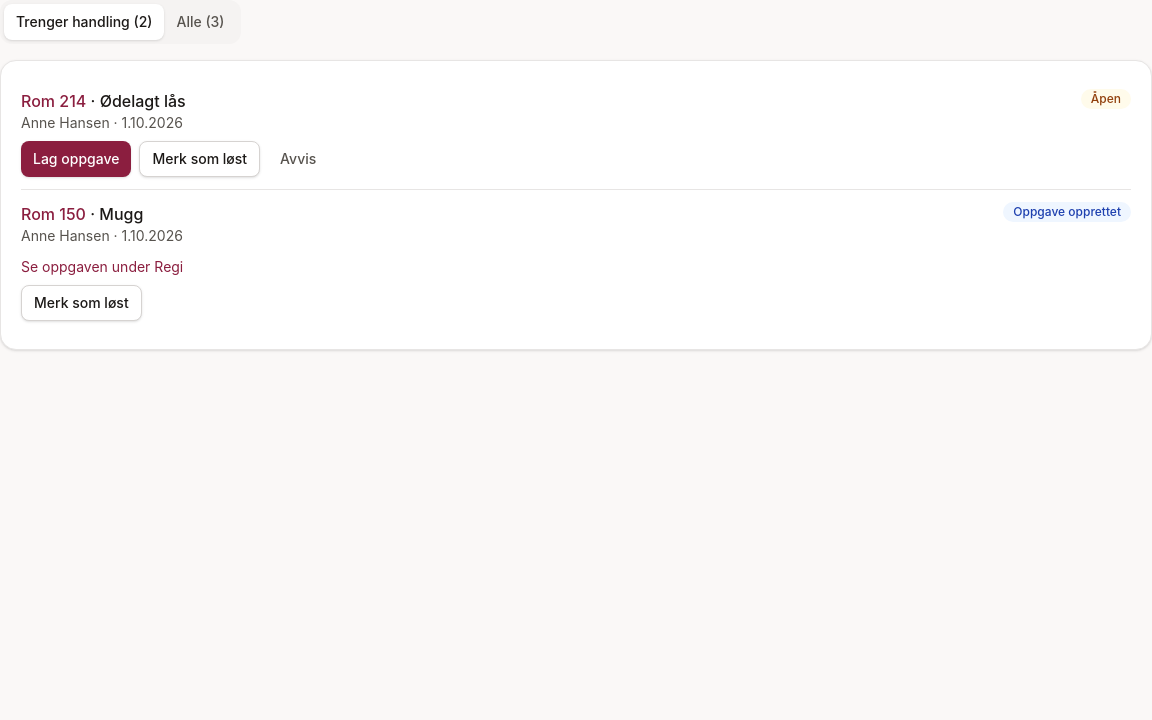
ReportsTab › lets Regisjef make a task from an open report
Click the button "Lag oppgave" at (76, 159), box [21, 141, 132, 177]
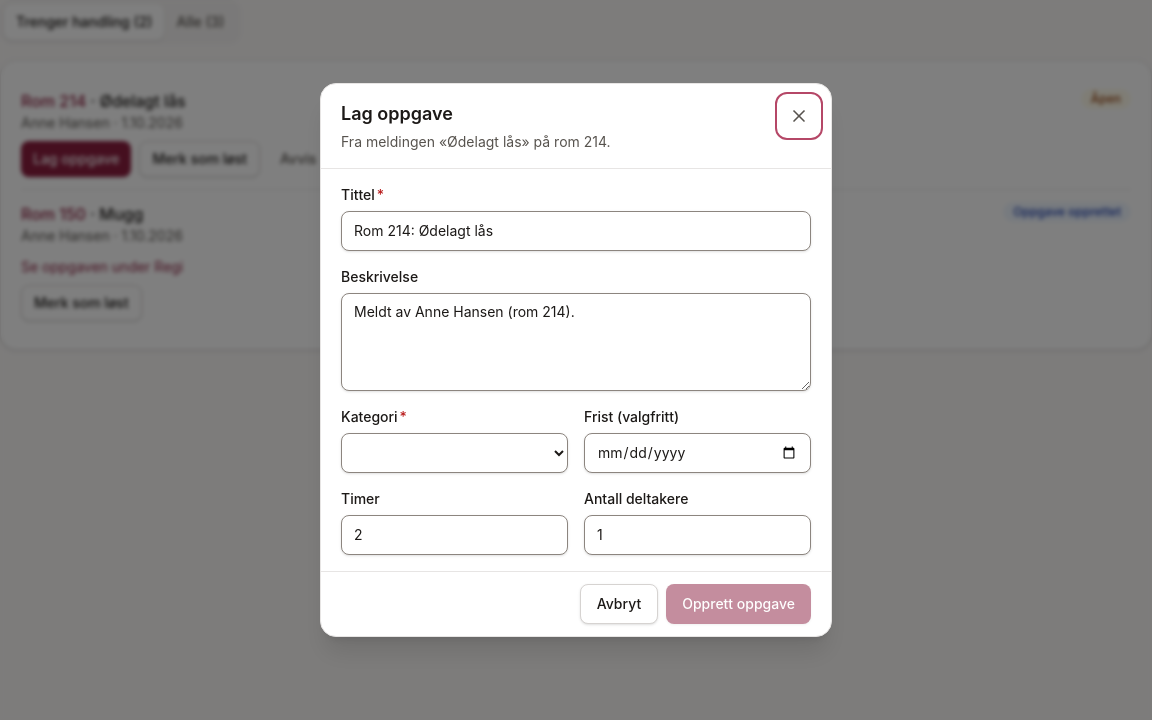
Now the text "Fra meldingen «Ødelagt lås» på rom 214." is shown, box [341, 132, 611, 152]
